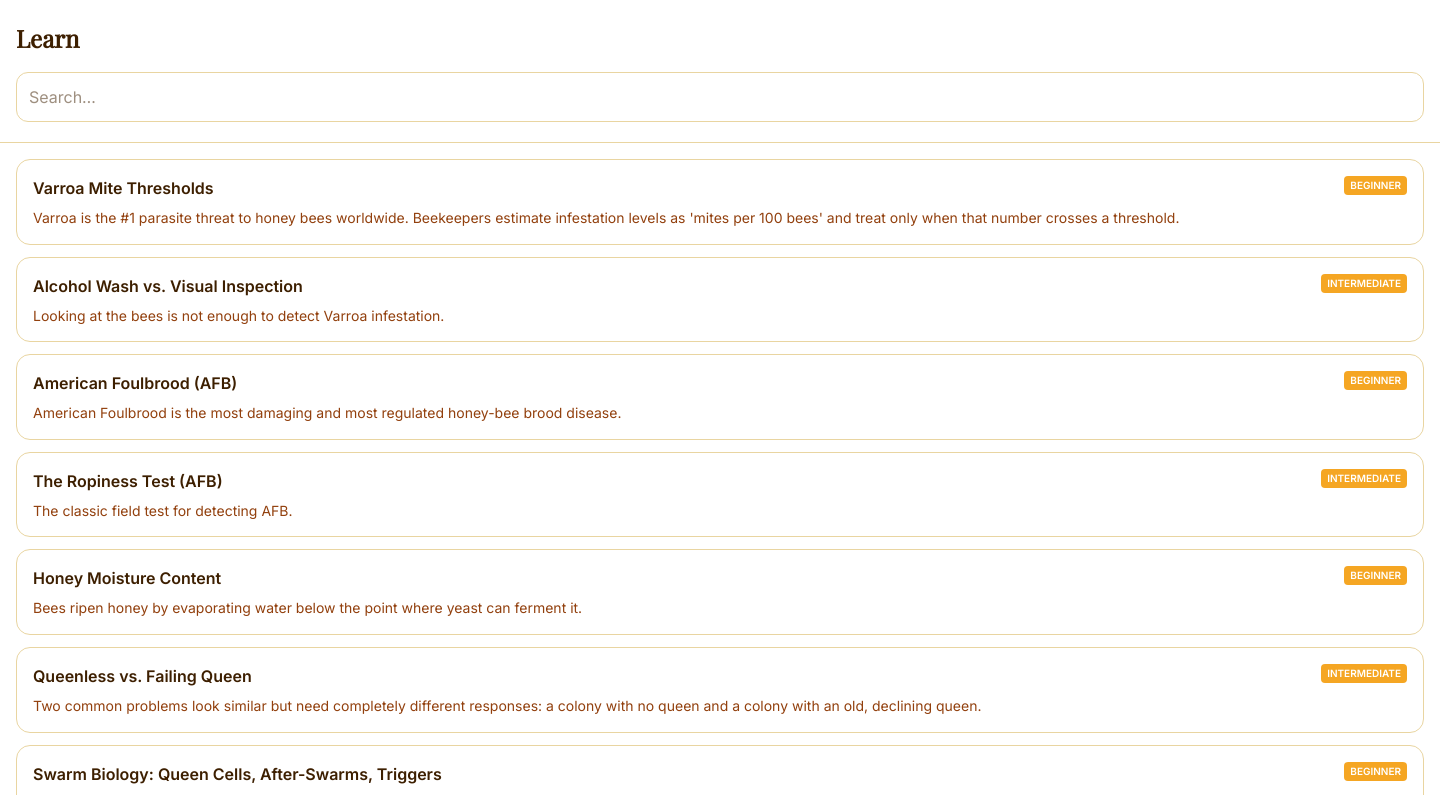
Scenario: LearnScreen › filters facts by search text
The image size is (1440, 795).
Type "varroa mite thresholds" into the field with placeholder "Search…".
click(720, 97); type("varroa mite thresholds")  # box [16,72,1424,122]
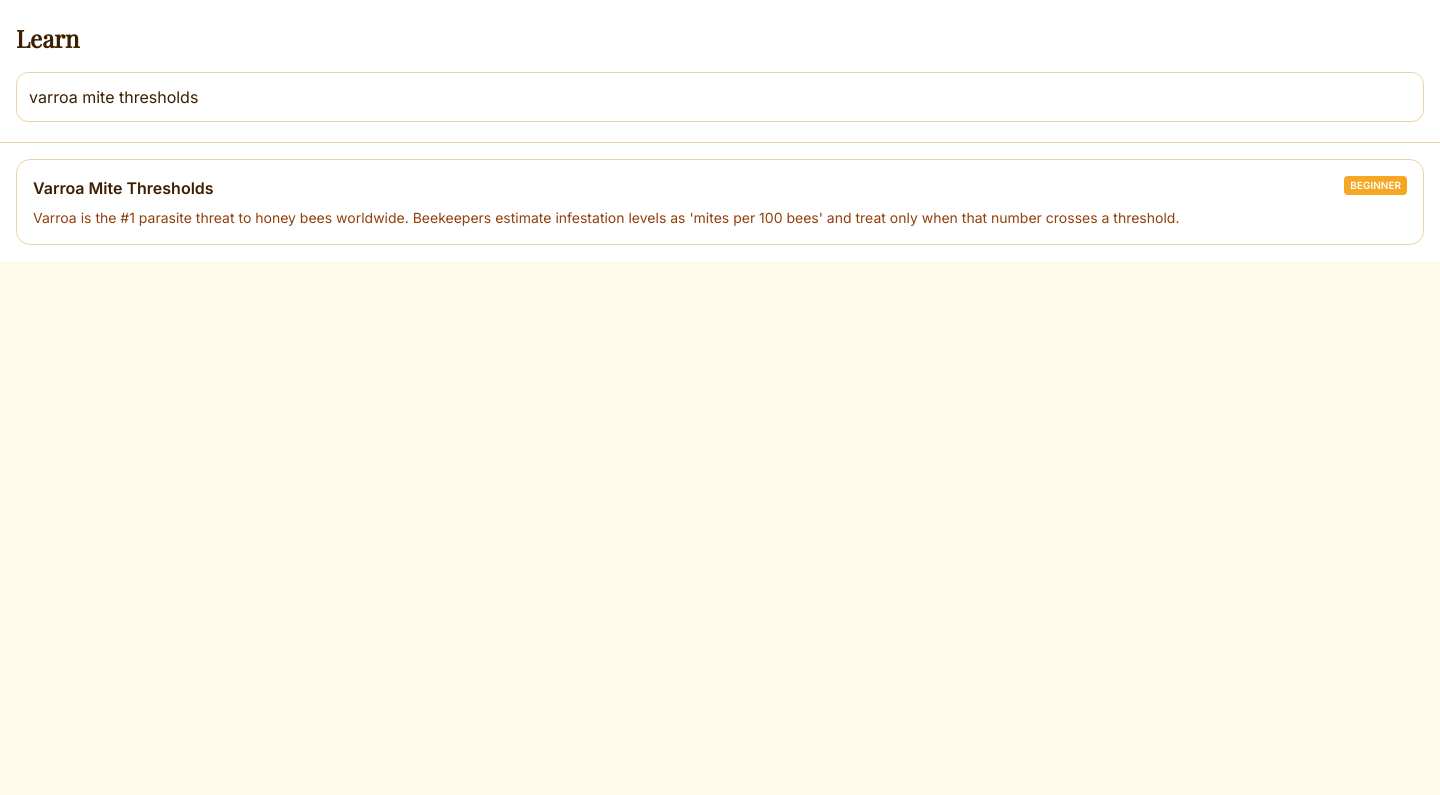
Expected: the heading "Varroa Mite Thresholds" is shown, [33,176,214,200]
Expected: the heading "Honey Moisture Content" is gone
